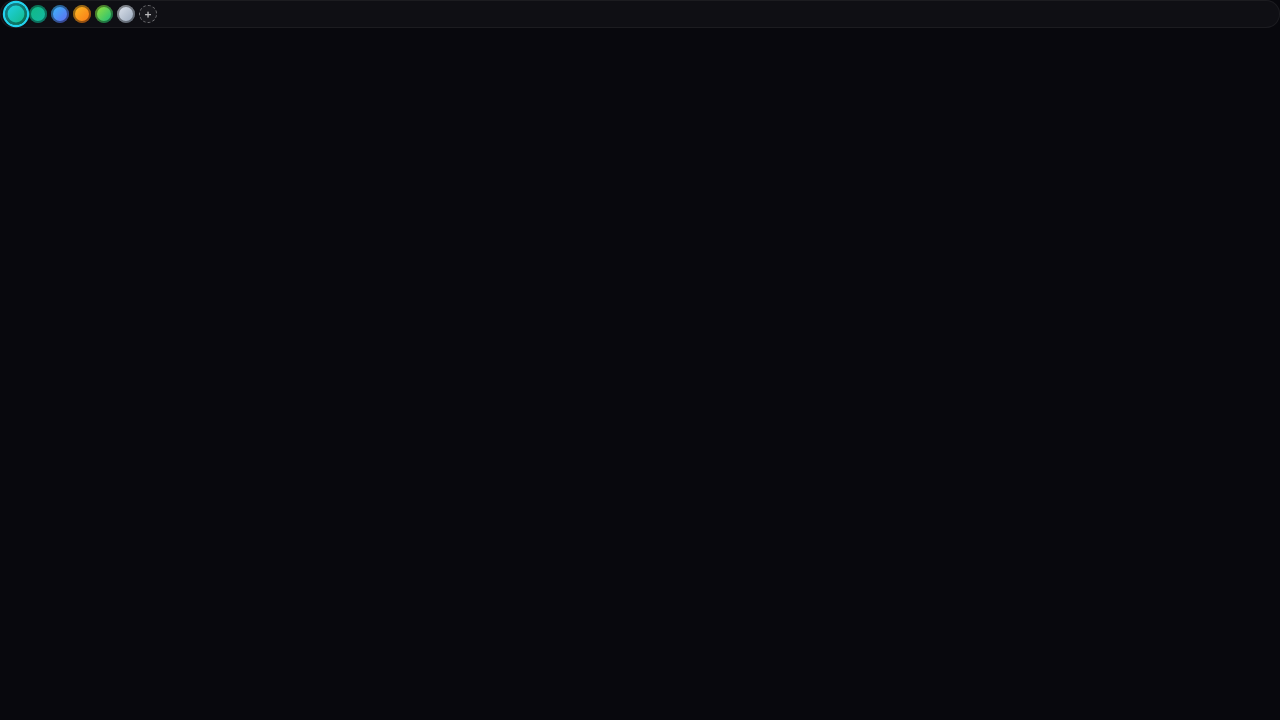
Test case: ThemePicker › clicking the custom dot opens the popover when no custom palette is set
What coordinates should you click on to do the following:
click the button named "custom palette"
I would click on:
 (148, 14)
Its box is x1=139 y1=5 x2=157 y2=23.
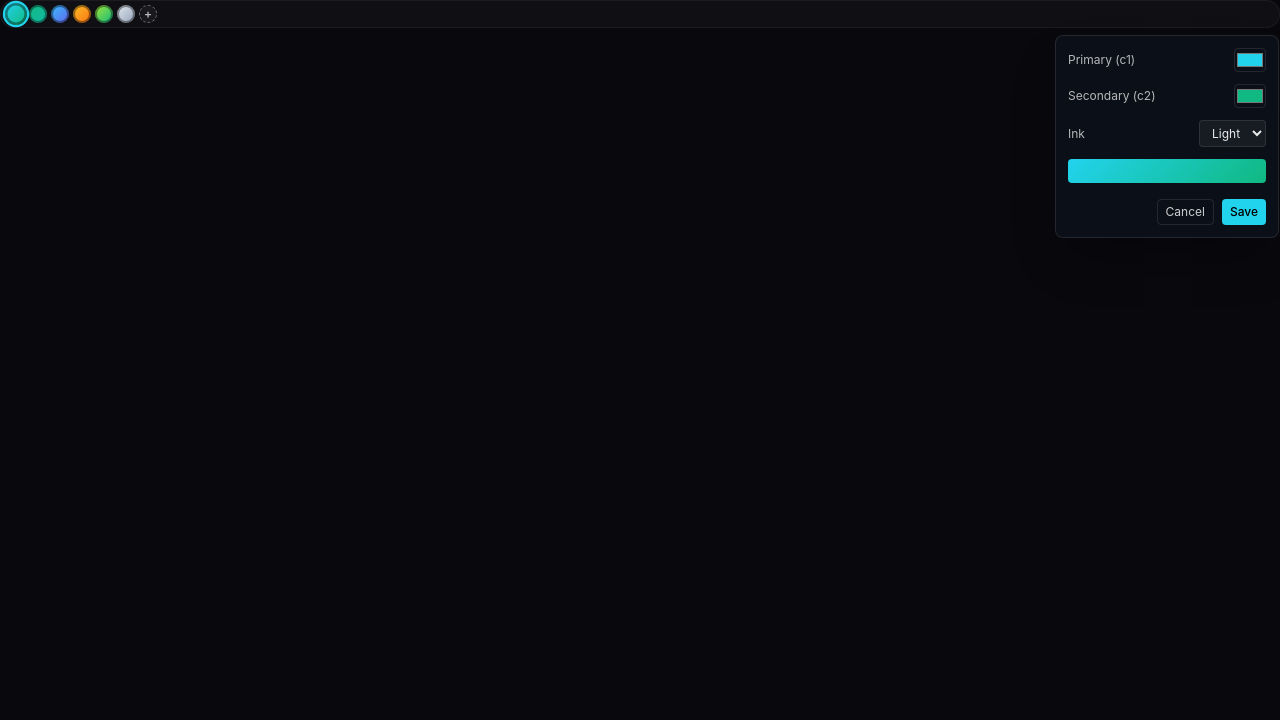
Expected: the dialog named "custom palette editor" is shown, x1=1055 y1=35 x2=1279 y2=238
